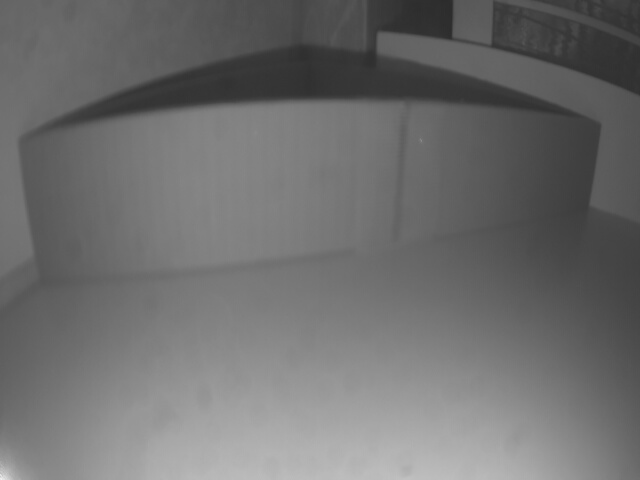Green: (39, 120, 600, 284)
